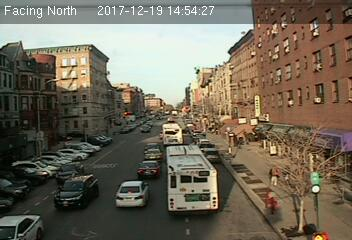bus: (165, 144, 219, 215), (162, 123, 183, 147)
car: (53, 176, 97, 206), (113, 180, 150, 207), (55, 161, 84, 181), (137, 161, 160, 179), (202, 147, 220, 162), (144, 148, 162, 160)
pedestrian: (268, 164, 280, 186)
